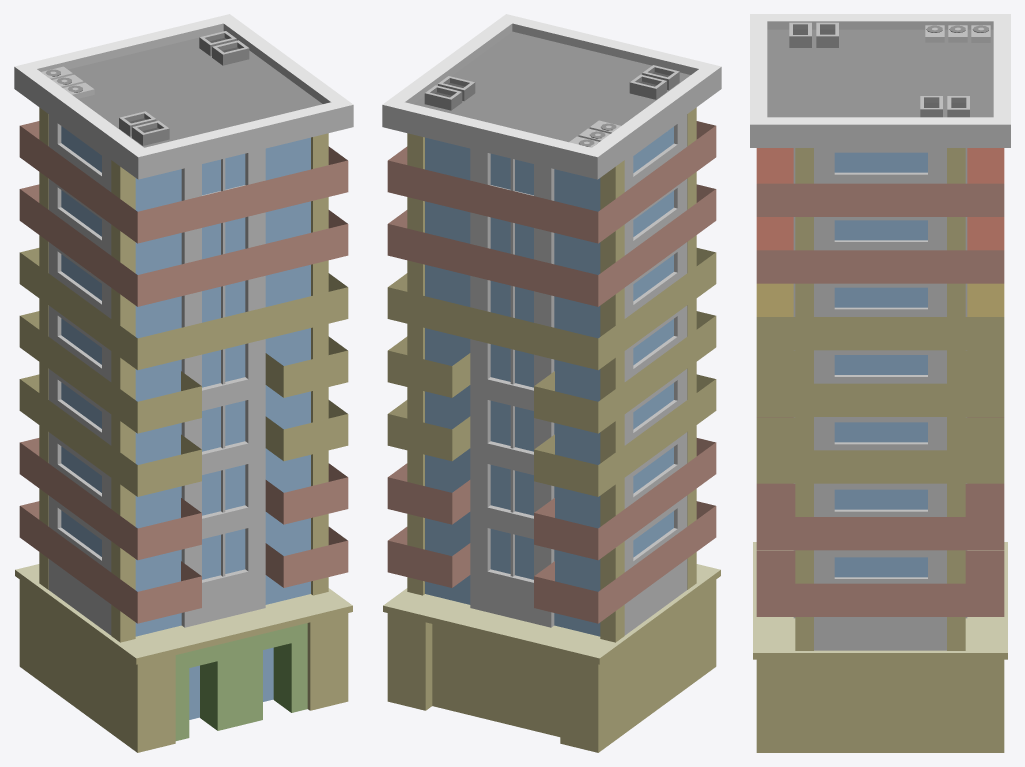
Rendered from house_middle_009.glb.
3 views of the same model, side by side, from view 1: azimuth 30°, elevation 25°; view 2: azimuth 150°, elevation 25°; view 3: azimuth 270°, elevation 25° (orthographic). The views are drawn at different scales.
Parts seen in each view (by area): view 1: house_middle_009; view 2: house_middle_009; view 3: house_middle_009.
Part boxes in pixels (bbox=[...]): house_middle_009: bbox=[14, 14, 353, 752]; house_middle_009: bbox=[382, 14, 721, 752]; house_middle_009: bbox=[750, 14, 1010, 752].
Bounding box in the file's own units: 7.27 × 19.28 × 7.2.
Materials: 1 (1 with a texture image).
